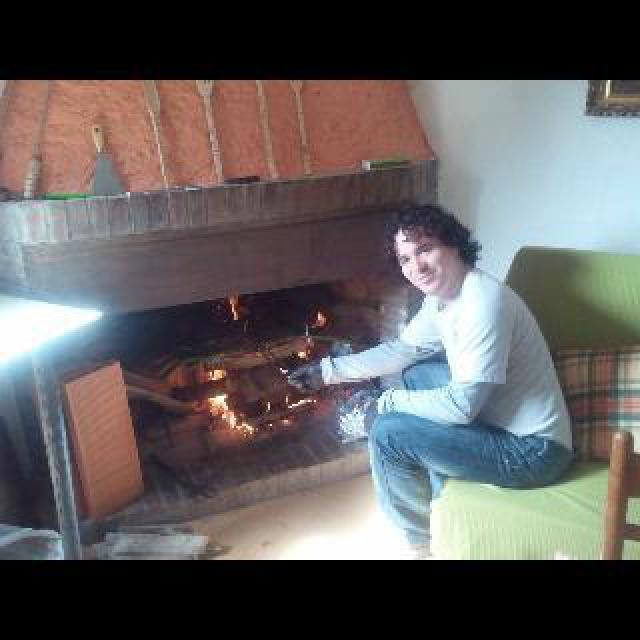Fire: (188, 298, 326, 430)
